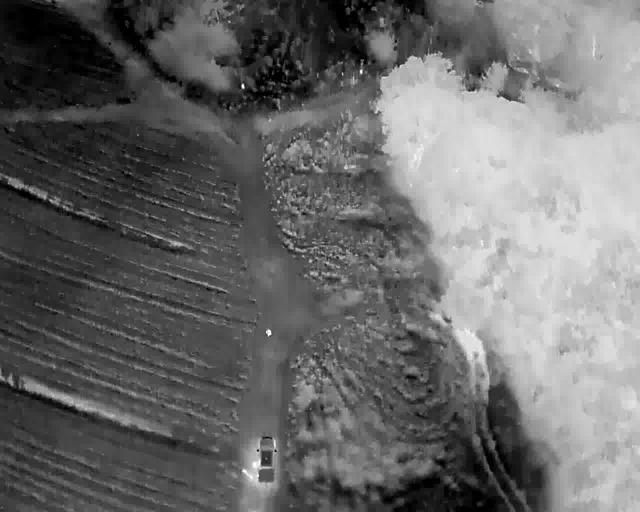person: (240, 466, 249, 477), (251, 459, 260, 469), (264, 327, 272, 337), (248, 472, 254, 481)
